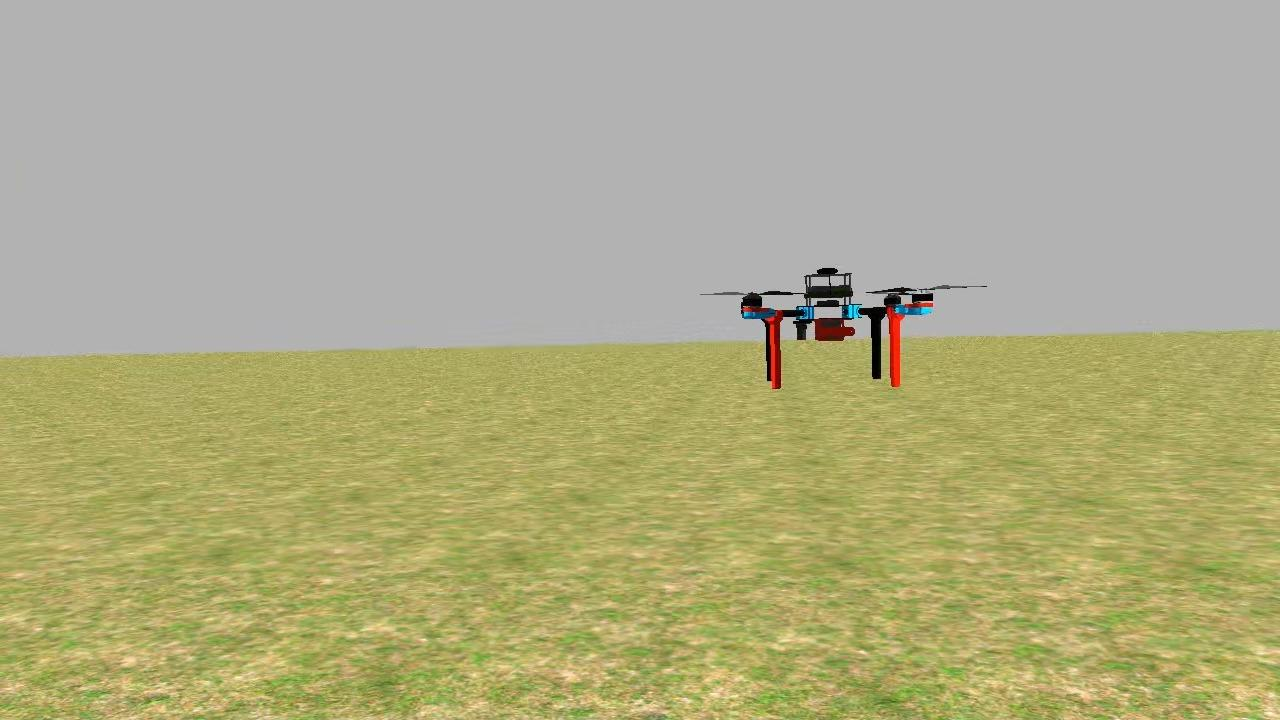UAV: (729, 259, 942, 397)
